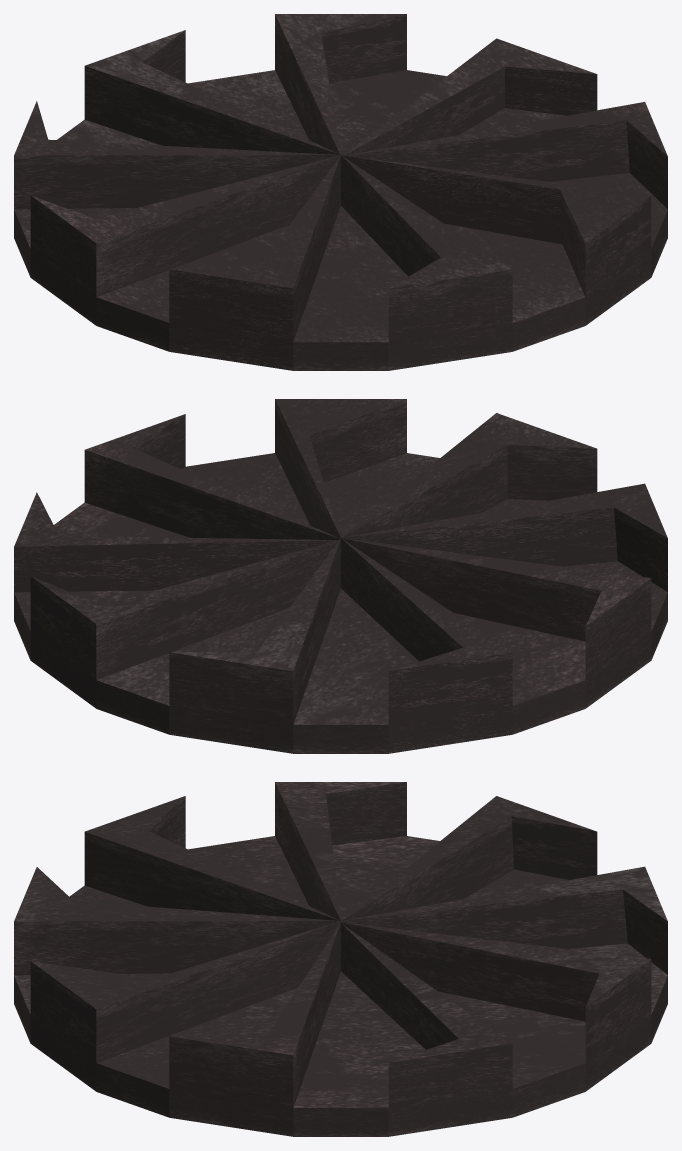
The model's file is WRole.FBX.
3 renders of one model, top to bottom at view 1: azimuth 30°, elevation 25°; view 2: azimuth 150°, elevation 25°; view 3: azimuth 270°, elevation 25°, orthographic.
Visible parts, largest first — view 1: Gengon001; view 2: Gengon001; view 3: Gengon001.
Boxes of the visible parts, x1,y1,x2,y2 form: Gengon001: [14, 14, 667, 370]; Gengon001: [14, 399, 667, 753]; Gengon001: [14, 782, 667, 1136].
Bounding box in the file's own units: 11 × 1.6 × 11.17.
